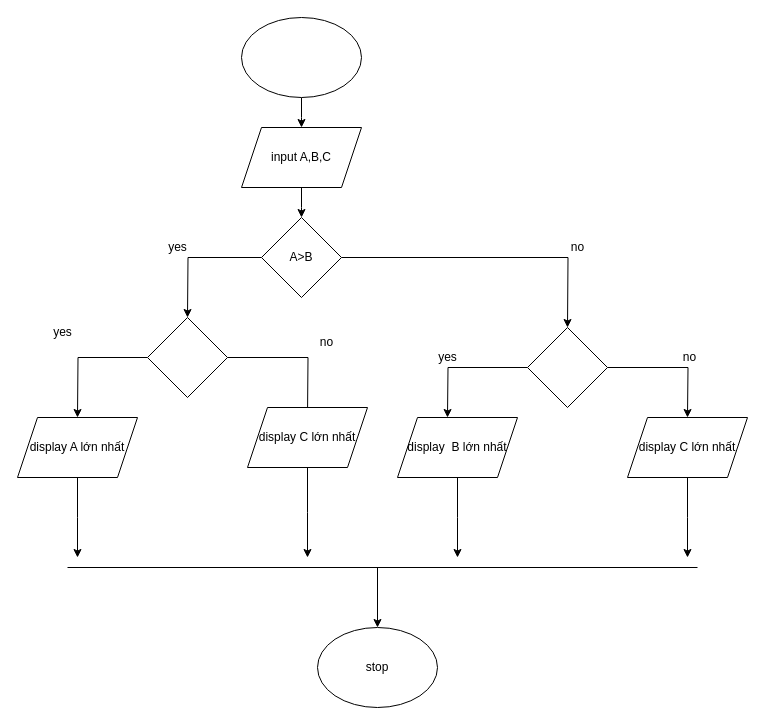
The diagram is 765 pixels wide and 725 high, and some of its shapes have lost their labels. The shapes that lost their labels are listed below. From the top down, each one's centre as x and y in pixels, then its label:
At point 301,57: "start".
At point 187,357: "A>C".
At point 567,367: "B>C".
